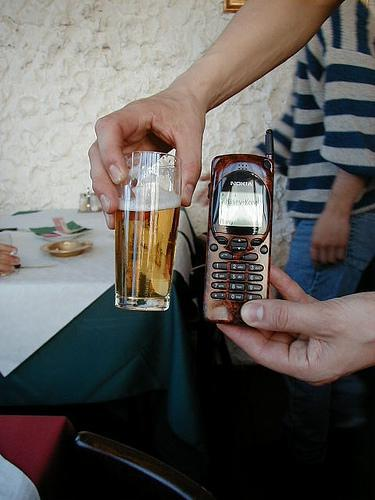hand: (79, 69, 207, 243), (213, 263, 374, 386), (303, 190, 357, 276)
phone: (196, 147, 283, 332)
